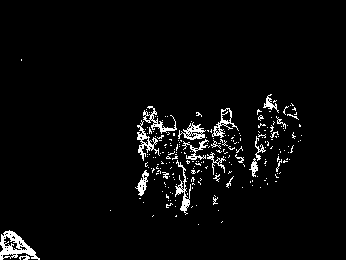person: (177, 111, 211, 214), (133, 103, 169, 198), (268, 99, 304, 185), (153, 113, 183, 210), (211, 106, 246, 187), (251, 91, 279, 181)
